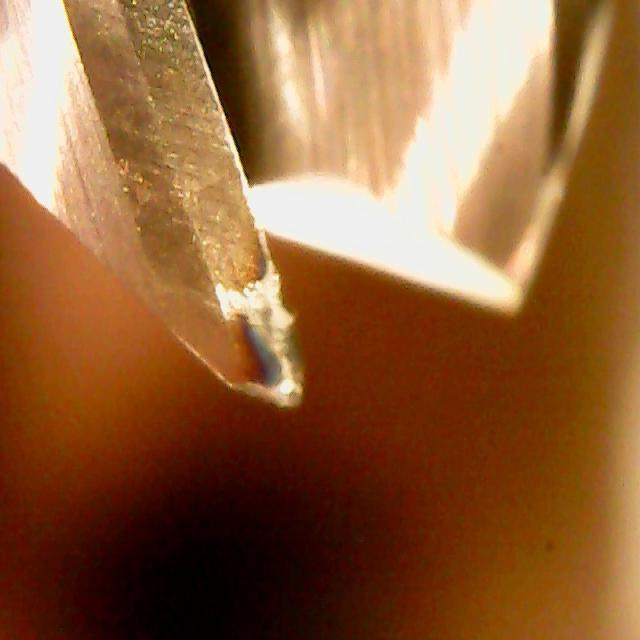Tool-wear-class-1: (122, 83, 322, 410)
